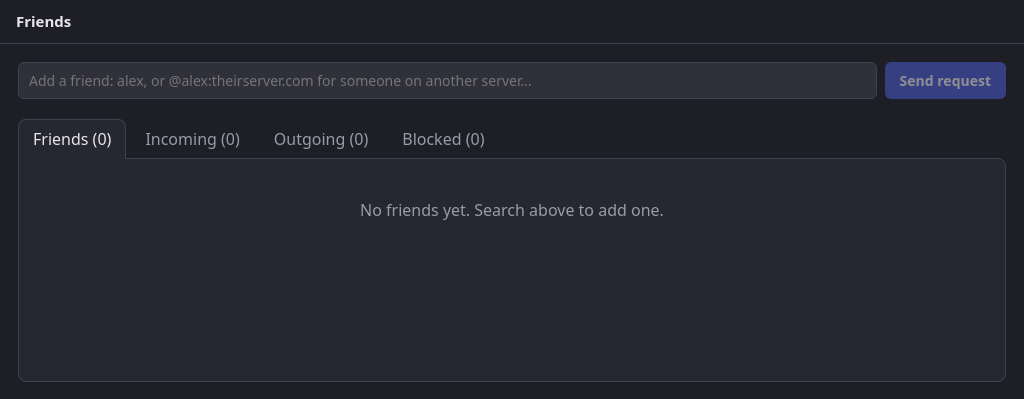
Test: the add-a-friend search results › closes the list when adding fails with already_friends
The image size is (1024, 399).
Replace the text in the dropdown with "bo". click: (447, 80)
box: [18, 62, 877, 99]
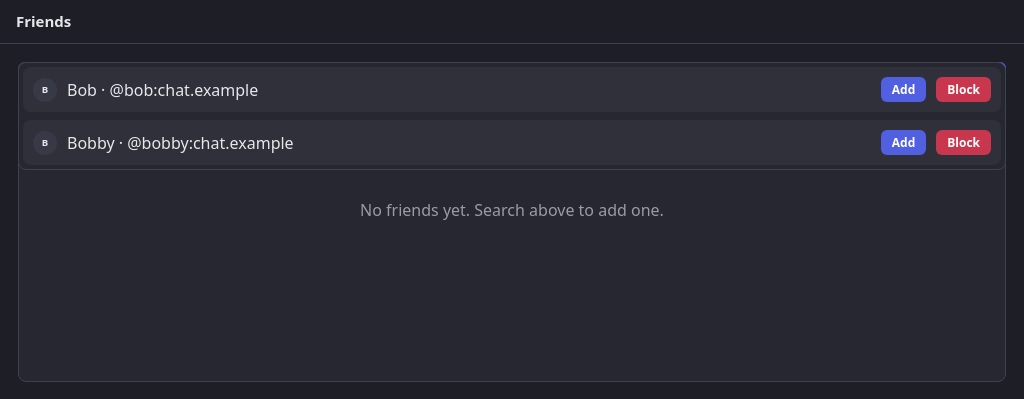
Expected: the text "Bob · @bob:chat.example" is shown, [67, 78, 258, 100]
Click the button "Add" in the row of "@bob:chat.example". click: click(904, 90)
box: [881, 77, 926, 102]
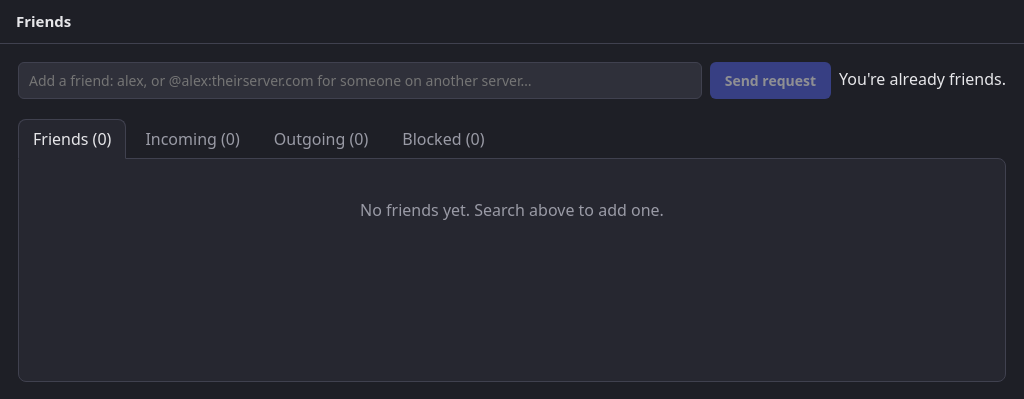
Expected: the text "You're already friends." is shown, [839, 68, 1006, 99]
Expected: the text "Bob · @bob:chat.example" is gone
